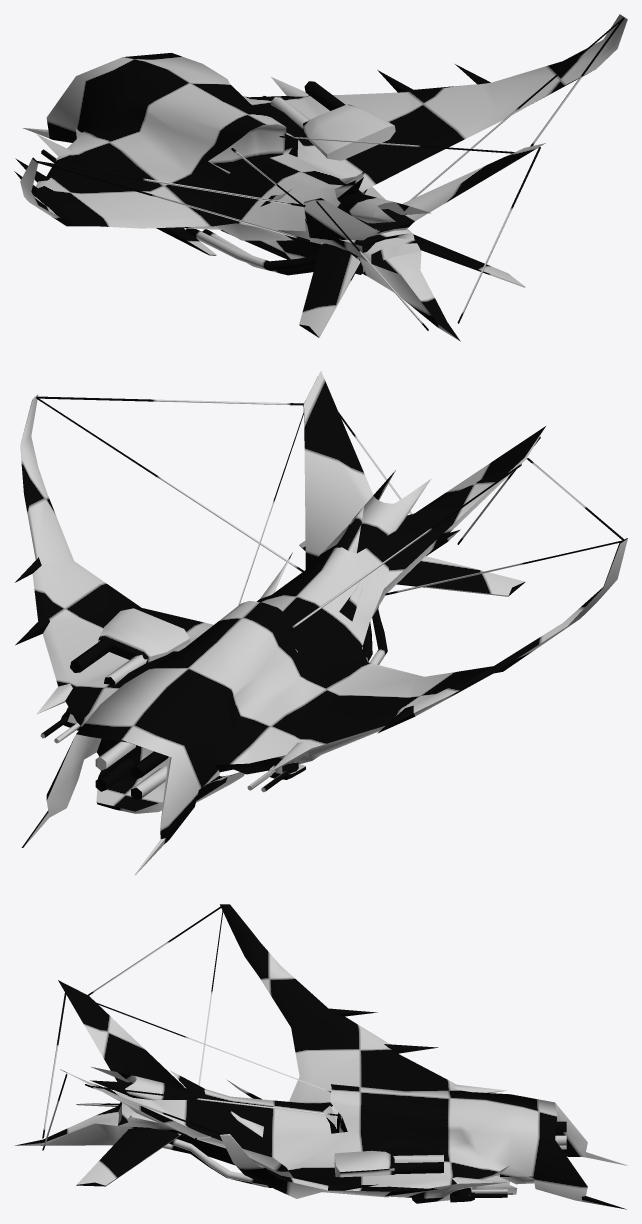
Rendered from battleray.obj.
3 renders of one model, top to bottom at view 1: azimuth 30°, elevation 25°; view 2: azimuth 150°, elevation 25°; view 3: azimuth 270°, elevation 25°, orthographic. The views are drawn at different scales.
Parts seen in each view (by area): view 1: batteray; view 2: batteray; view 3: batteray.
Boxes of the visible parts, <box> form: batteray: <box>14,14,627,341</box>; batteray: <box>15,371,627,875</box>; batteray: <box>15,904,627,1209</box>.
Bounding box in the file's own units: 359 × 130 × 403.
Materials: 1 (1 with a texture image).
